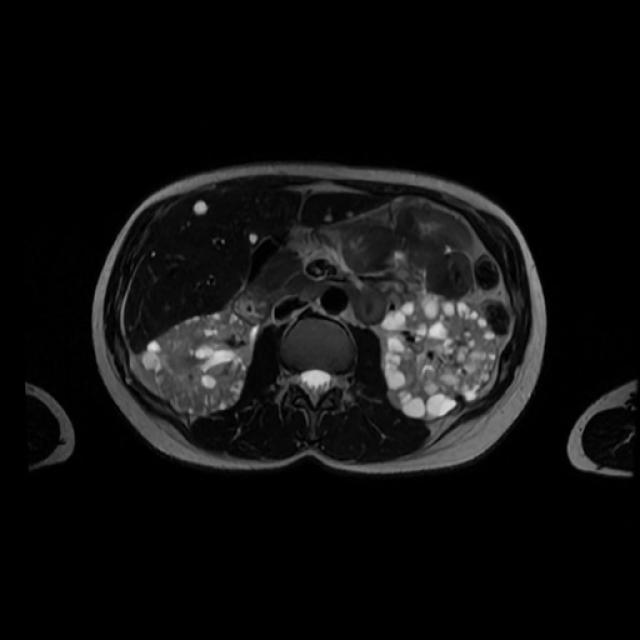sag: (144, 311, 249, 417)
sol: (386, 291, 499, 418)
